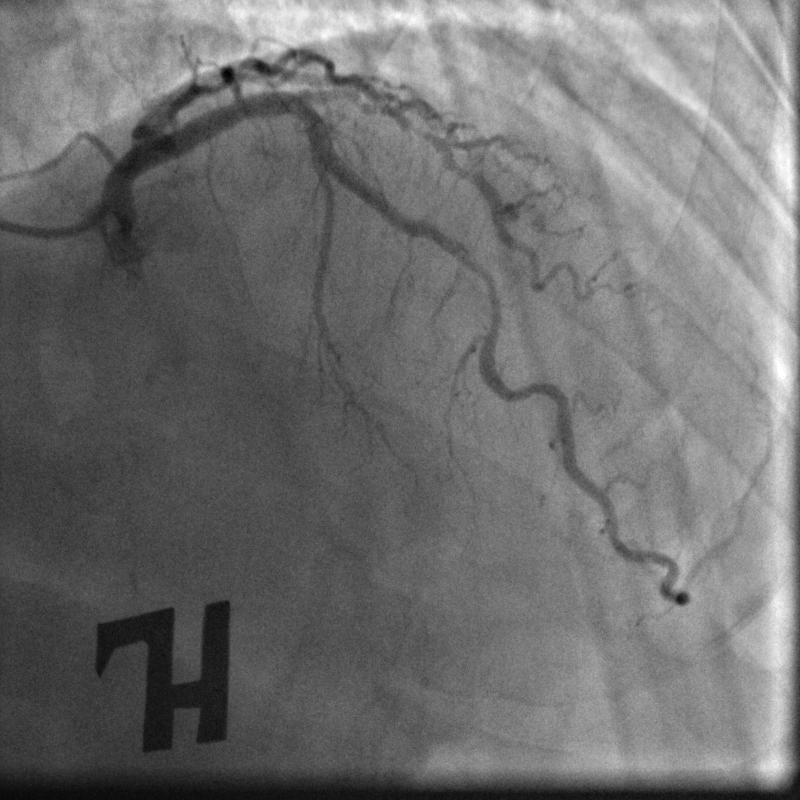Stenosis: (466, 249, 505, 333)
